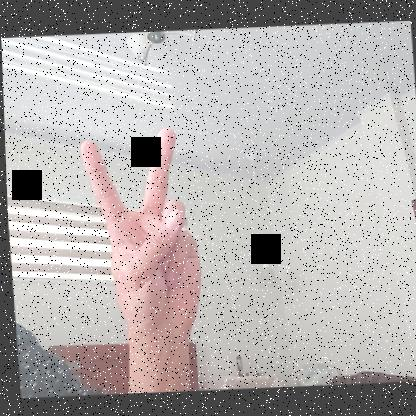V: (79, 128, 207, 340)
